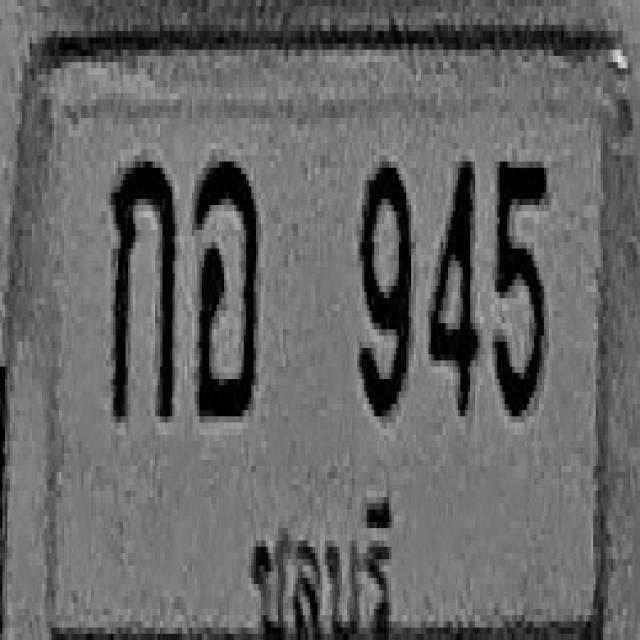10GorGai: (110, 156, 176, 422)
4: (428, 156, 478, 417)
5: (493, 156, 548, 417)
52OrAng: (193, 156, 257, 417)
9: (358, 156, 410, 417)
Chonburi: (236, 476, 403, 640)
